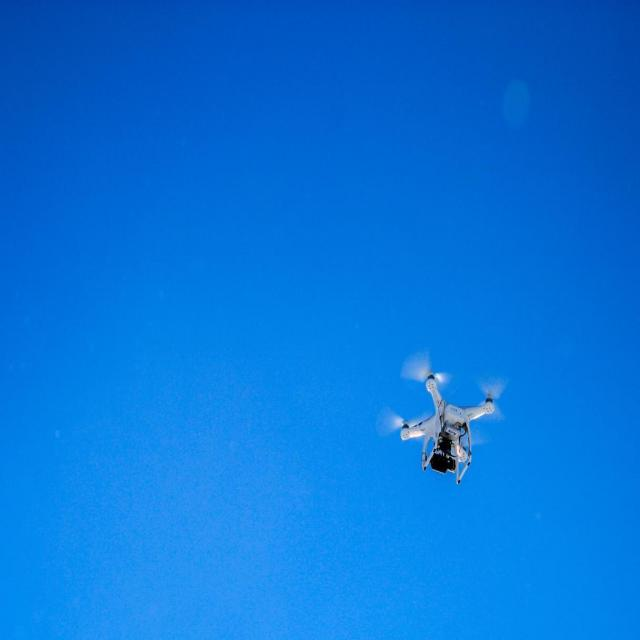UAV: (399, 376, 497, 488)
